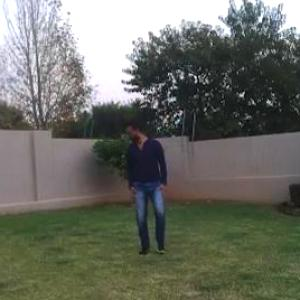follow: (126, 111, 168, 251)
